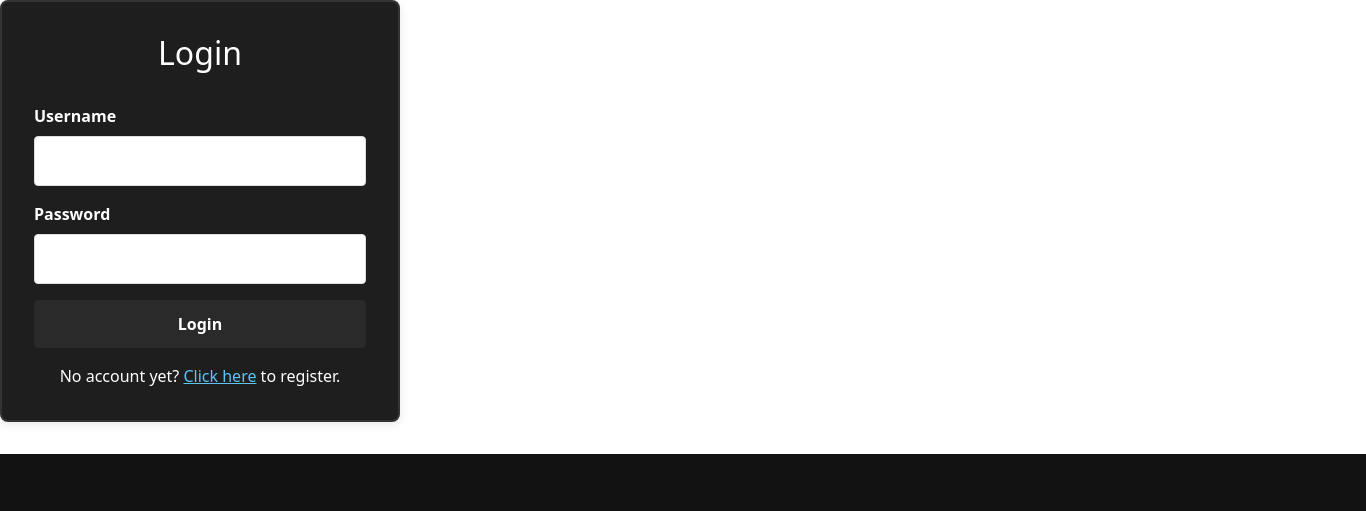
Test case: LoginForm › handles invalid credentials correctly
The width and height of the screenshot is (1366, 511).
Note: Fill in form
In the field labelled "Username": point(200, 161) [34, 136, 366, 186], type "wronguser"
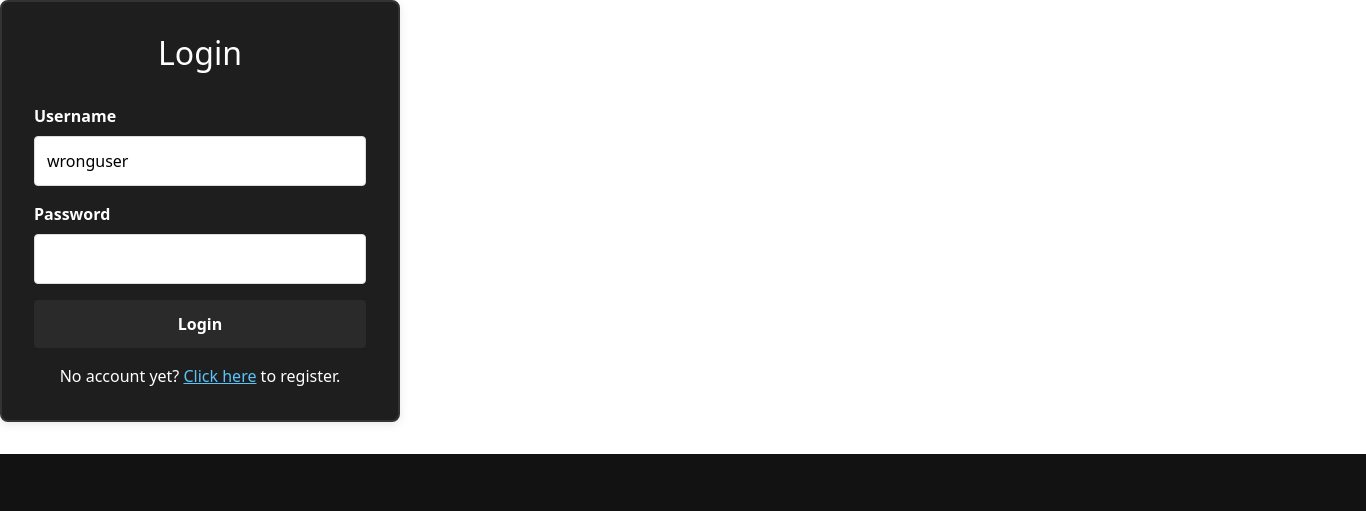
In the password field labelled "Password": point(200, 259) [34, 234, 366, 284], type "wrongpass"
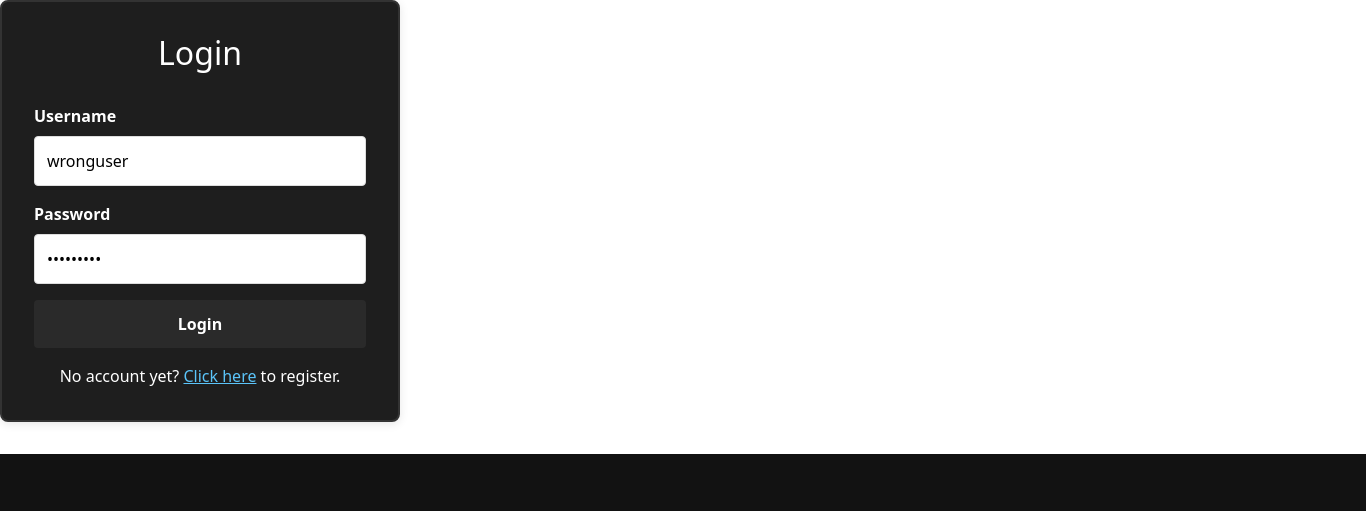
Note: Submit form
Click the button "Login": point(200, 324) [34, 300, 366, 348]
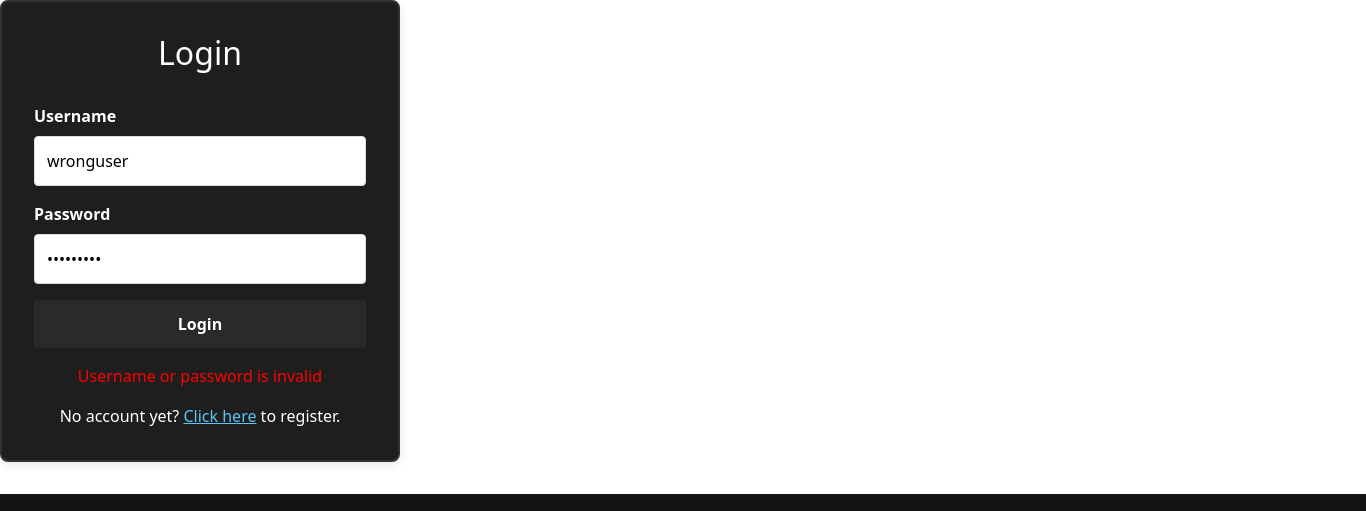
Check: the text "Username or password is invalid" is shown, box [78, 365, 322, 387]
